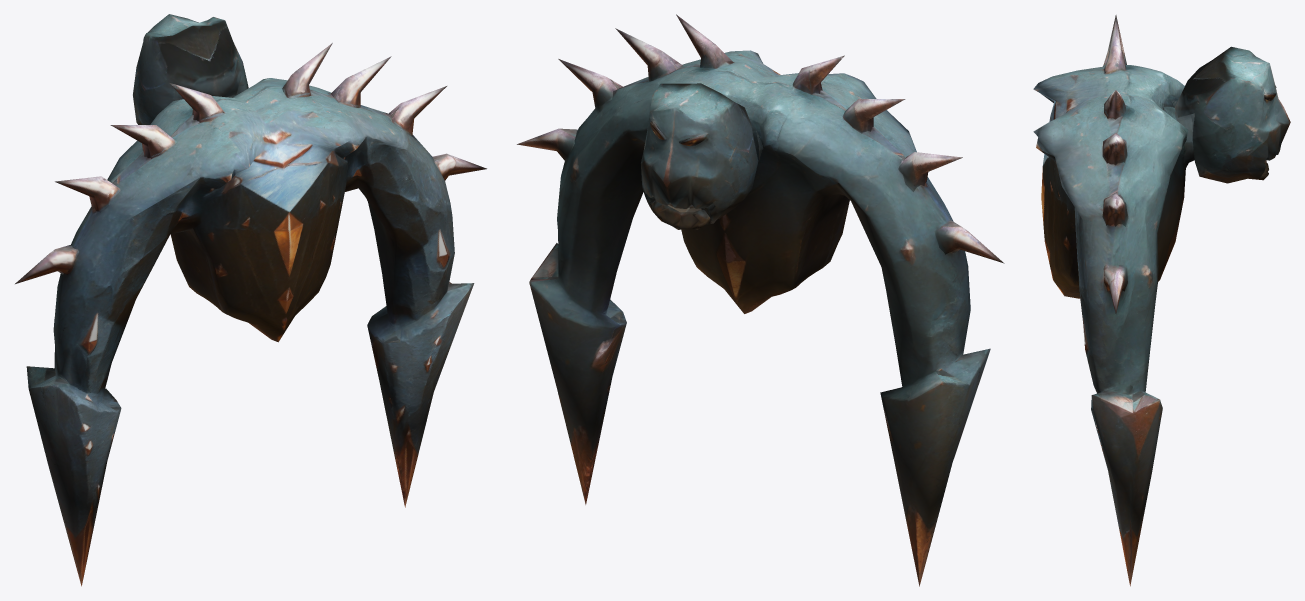
The model's file is Final boss.fbx.
The picture shows the model from 3 angles, left to right: view 1: azimuth 30°, elevation 25°; view 2: azimuth 150°, elevation 25°; view 3: azimuth 270°, elevation 25°; orthographic projection. The views are drawn at different scales.
Parts seen in each view (by area): view 1: Mesh_0.017; view 2: Mesh_0.017; view 3: Mesh_0.017.
Boxes of the visible parts, x1,y1,x2,y2 form: Mesh_0.017: (15,14,486,586); Mesh_0.017: (517,14,1004,586); Mesh_0.017: (1033,15,1290,586).
Size of the model in its own units: 5000 by 4950 by 2509.
1 material, 1 textured.
